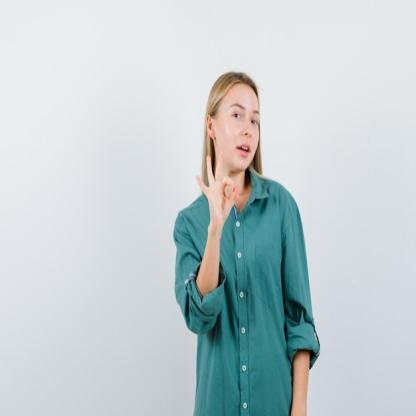ok: (193, 144, 241, 226)
